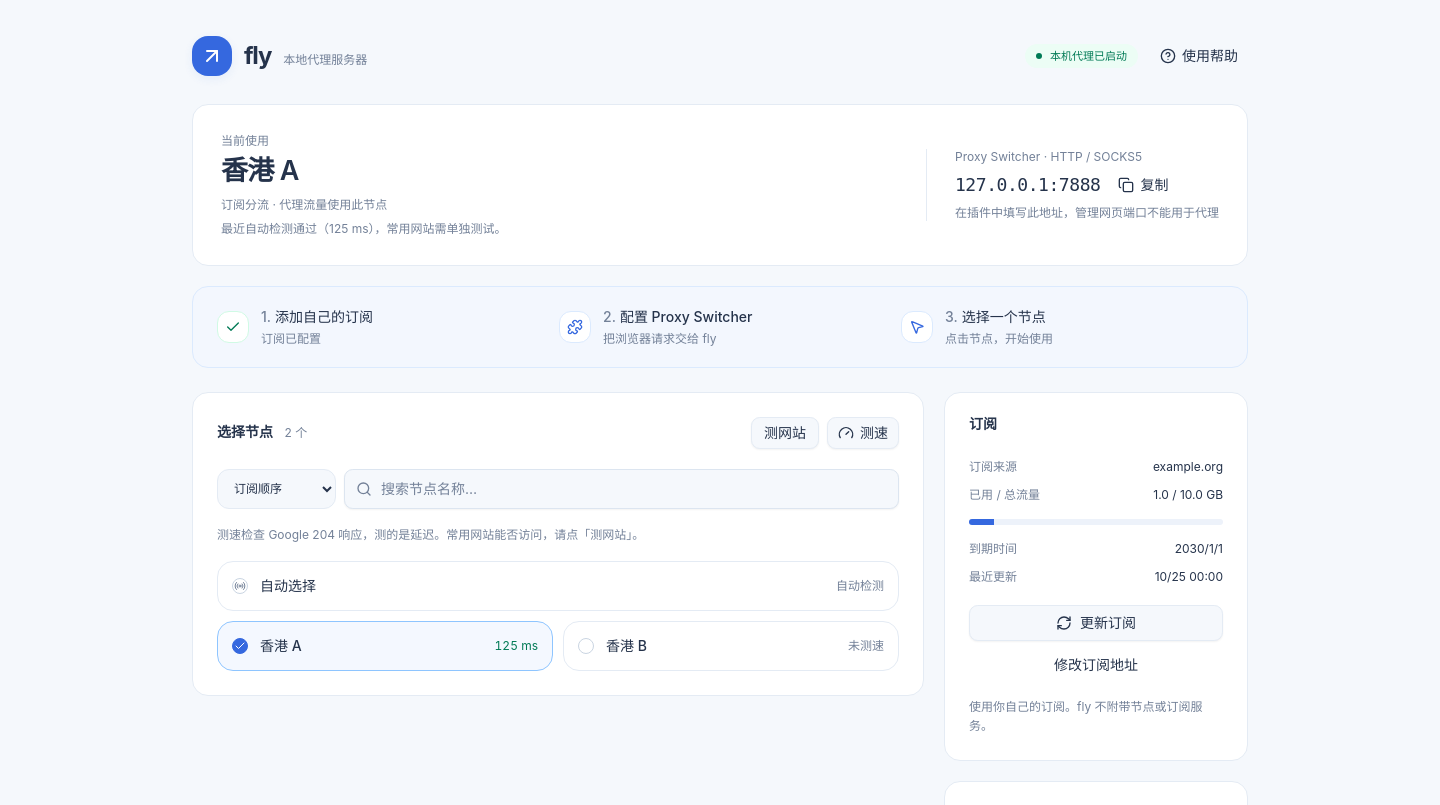
it: shows failed updates and makes retry available
Expected: the button with aria-label "选择节点：香港 A" is shown, [217,621,553,671]
Click the button "更新订阅" at (1096, 623), box [969,605,1223,641]
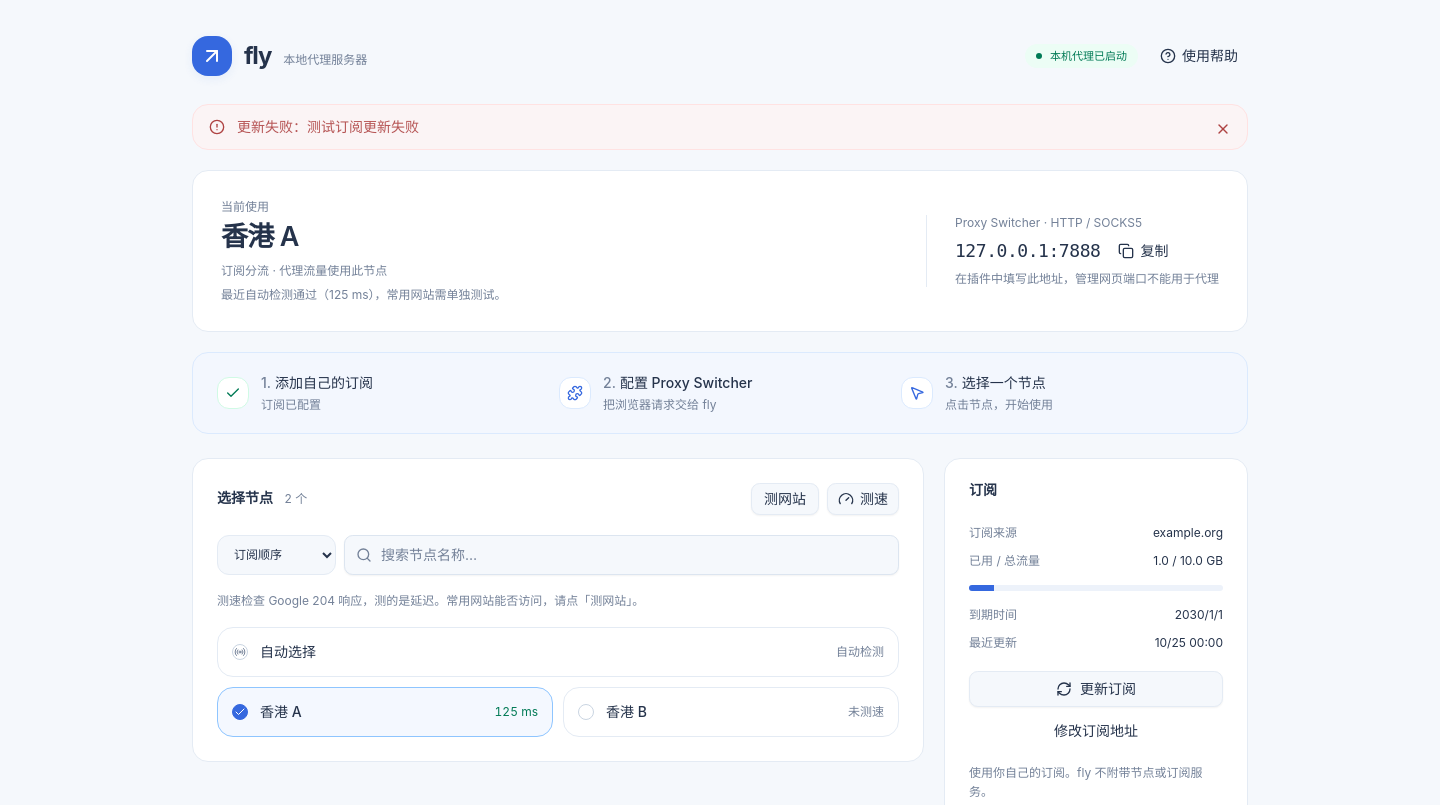
Expected: the button "更新订阅" is enabled, [969,671,1223,707]
Expected: the text "更新失败：测试订阅更新失败" is shown, [237,118,419,135]
